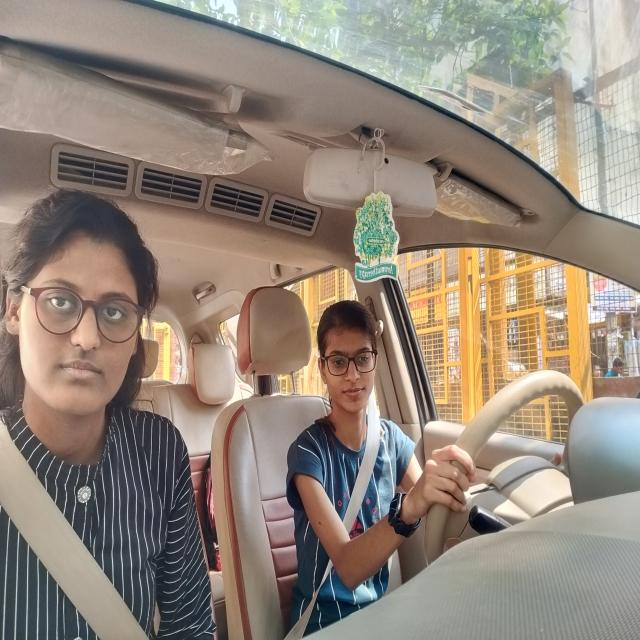person: (2, 170, 159, 432), (306, 292, 389, 432)
